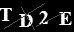2: (38, 10, 49, 25)
D: (18, 13, 34, 28)
E: (57, 11, 73, 26)
T: (1, 7, 12, 22)
